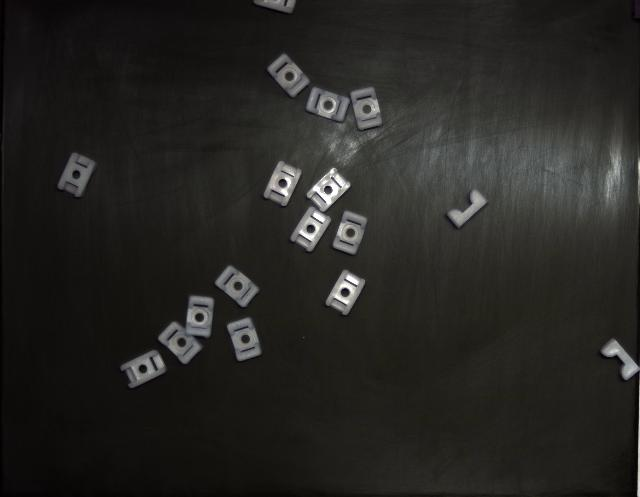first_side: (268, 54, 310, 98), (215, 266, 259, 308), (332, 211, 368, 255), (306, 88, 350, 121), (228, 318, 261, 361), (350, 88, 382, 130), (185, 296, 215, 339)
second_side: (290, 206, 331, 253), (306, 169, 350, 212), (58, 152, 98, 198), (326, 270, 365, 315), (121, 350, 166, 389), (264, 161, 301, 206)
third_side: (600, 339, 640, 380), (448, 190, 488, 229)
